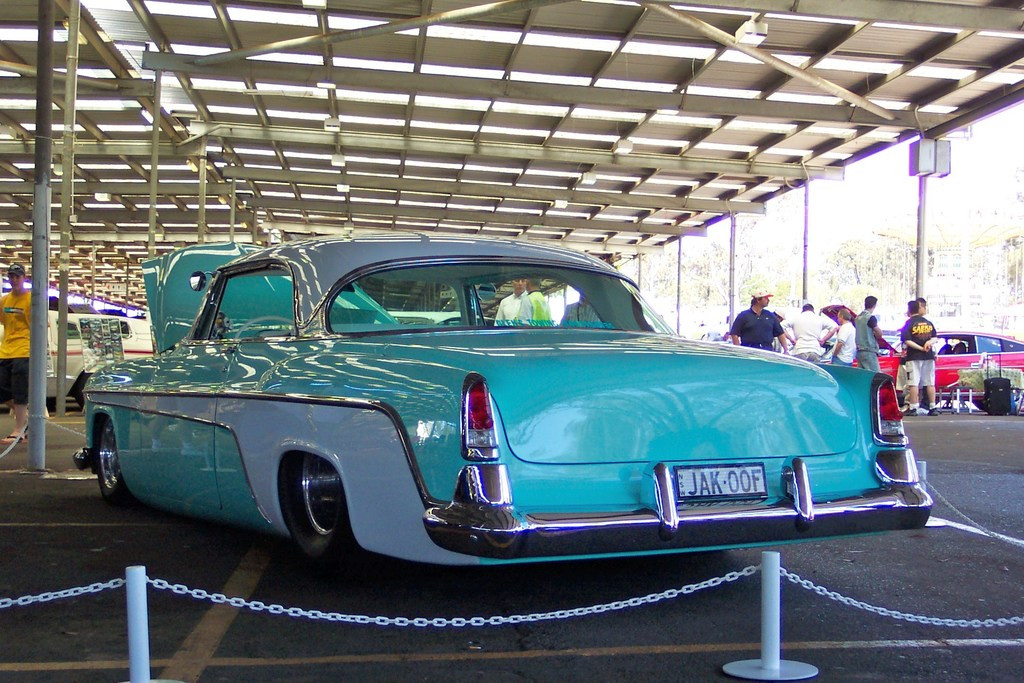Car: (65, 225, 934, 579), (848, 329, 1023, 414)
